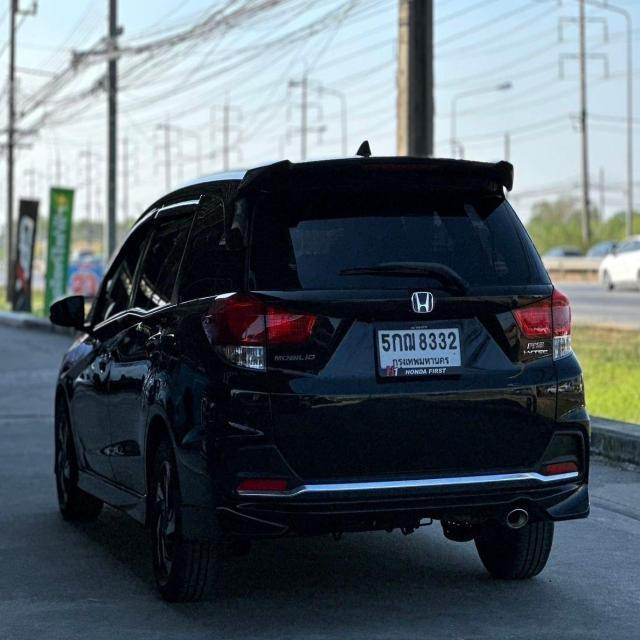Hatchback: (51, 142, 590, 601)
